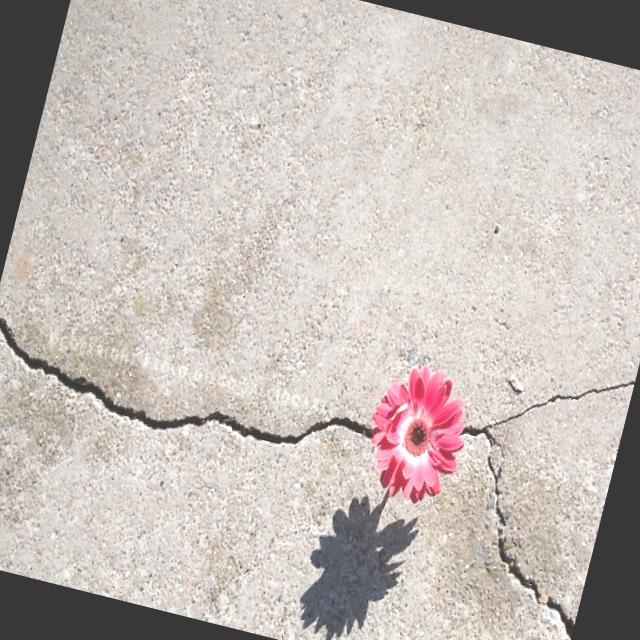crack: (0, 311, 380, 483), (418, 342, 633, 636)
